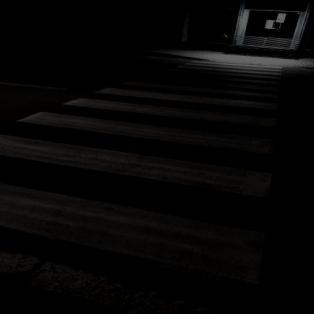Paso de Cebra: (10, 95, 283, 159)
